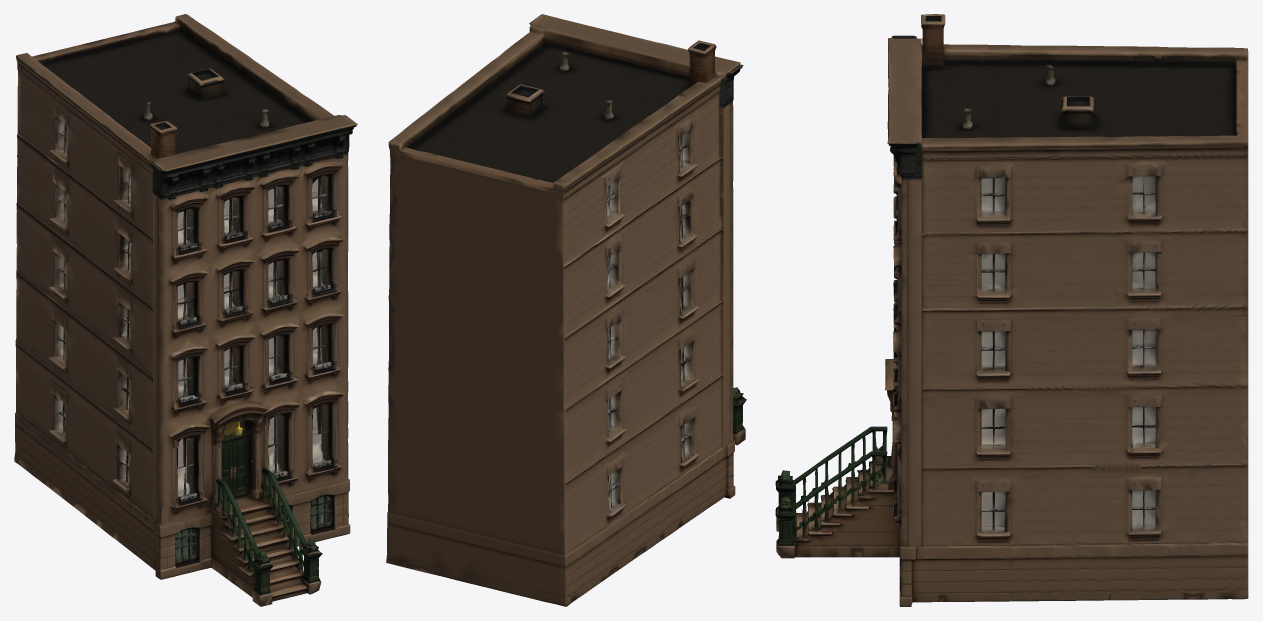
Rendered from brownstone-building-22k.fbx.
3 renders of one model, left to right at view 1: azimuth 30°, elevation 25°; view 2: azimuth 150°, elevation 25°; view 3: azimuth 270°, elevation 25°, orthographic. The views are drawn at different scales.
Visible parts, largest first — view 1: CF_Brownstone_Exact_22K; view 2: CF_Brownstone_Exact_22K; view 3: CF_Brownstone_Exact_22K.
Boxes of the visible parts, x1=… form: CF_Brownstone_Exact_22K: x1=14, y1=14, x2=357, y2=606; CF_Brownstone_Exact_22K: x1=386, y1=14, x2=746, y2=606; CF_Brownstone_Exact_22K: x1=775, y1=14, x2=1248, y2=606.
Bounding box in the file's own units: 749 × 1600 × 1388.
Materials: 1 (1 with a texture image).
